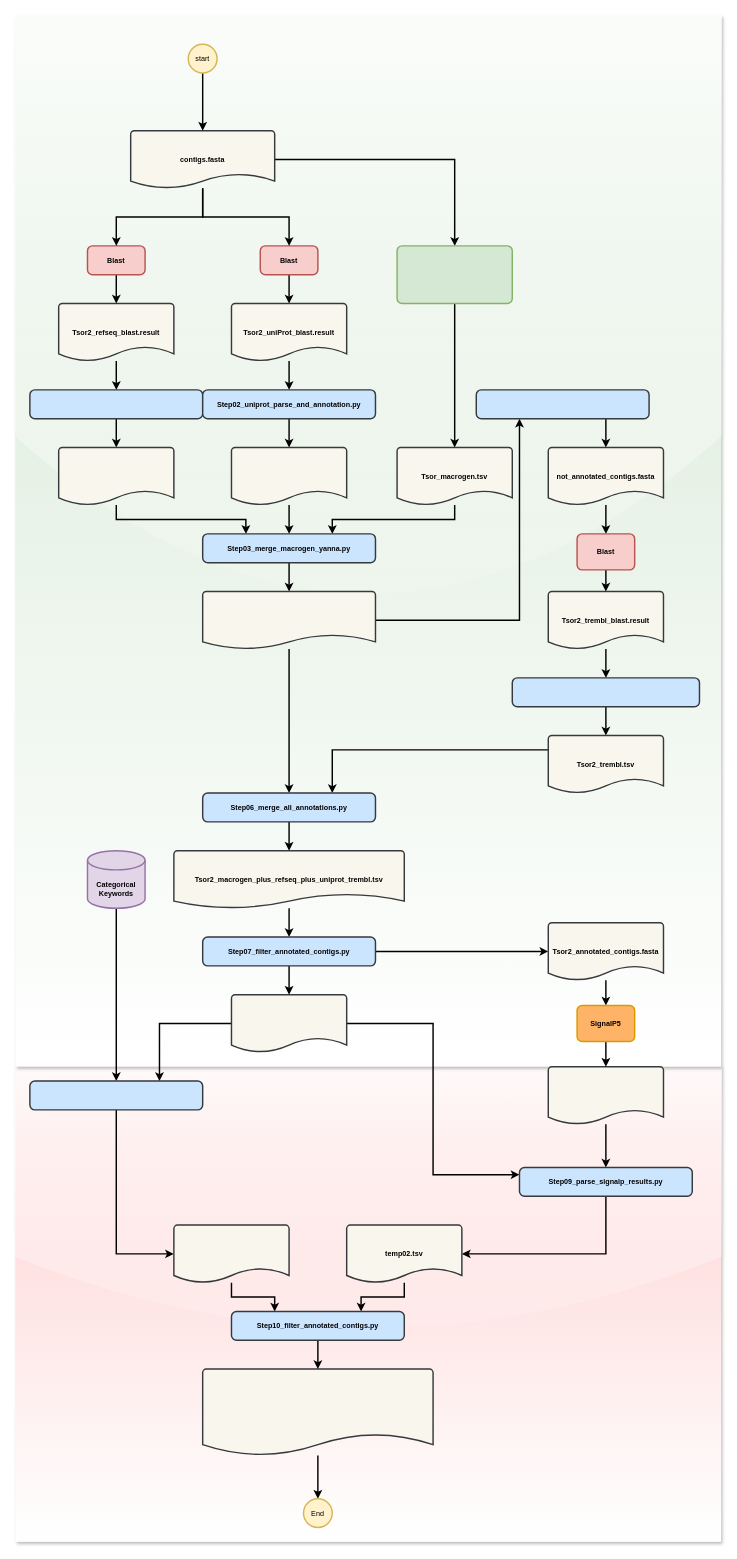
This 737x1559 diagram has some shape labels left out. The centre of each missing label's shape, as x and y in pixels:
Macrogen pipeline: the point at 454,274
SignalP results: the point at 605,1095
Step01_refseq_parse_and_annotation.py: the point at 116,404
Step04_build_input_for_trembl_running.py: the point at 562,404
Step05_tremble_parse_and_annotation.py: the point at 605,692
Step08_categorize_annotations.py: the point at 116,1095
temp01.tsv: the point at 231,1253
Tsor2_annotated_contigs.tsv: the point at 288,1023
Tsor2_final_coding_contigs_annotation.tsv: the point at 317,1412
Tsor2_macrogen_plus_refseq_plus_uniprot.tsv: the point at 289,619
Tsor2_refseq.tsv: the point at 116,475
Tsor2_uniprot.tsv: the point at 288,475
